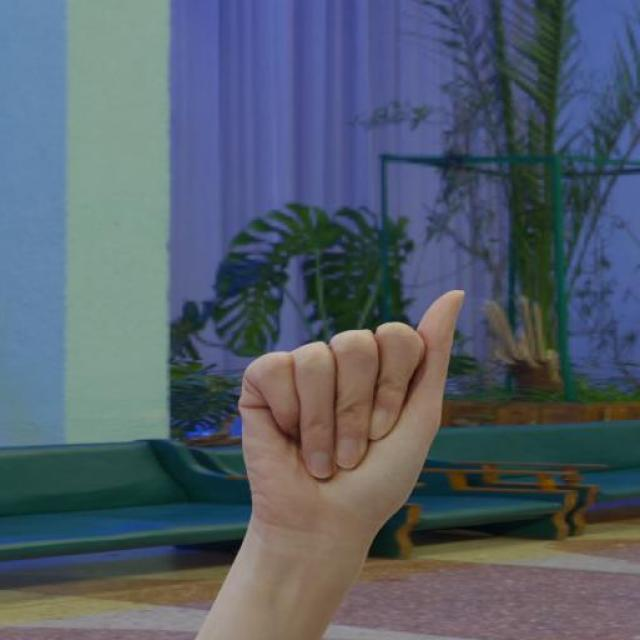A: (241, 285, 468, 533)
